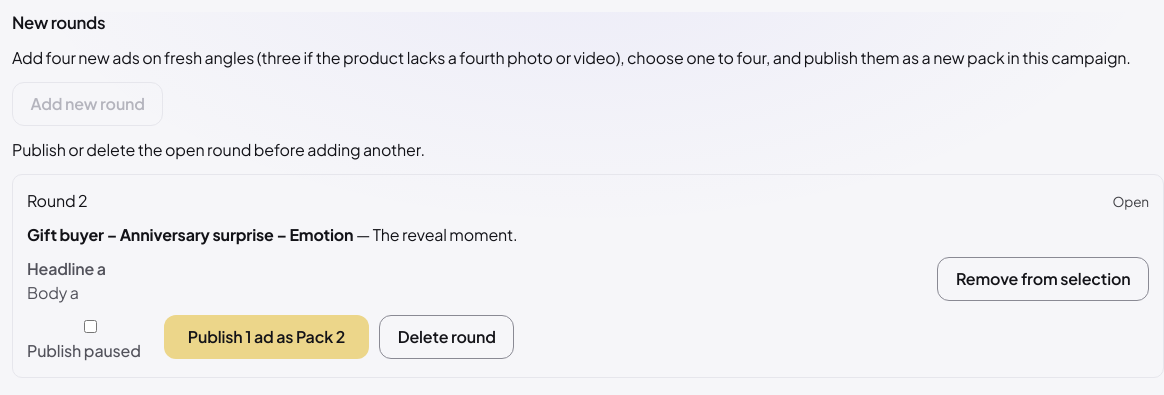
it: CreativeRoundsPanel › shows the progress of a video round published in the background
The width and height of the screenshot is (1164, 395).
Click the button "Publish 1 ad as Pack 2": x=266, y=337 top-left (164, 315), bottom-right (369, 359)
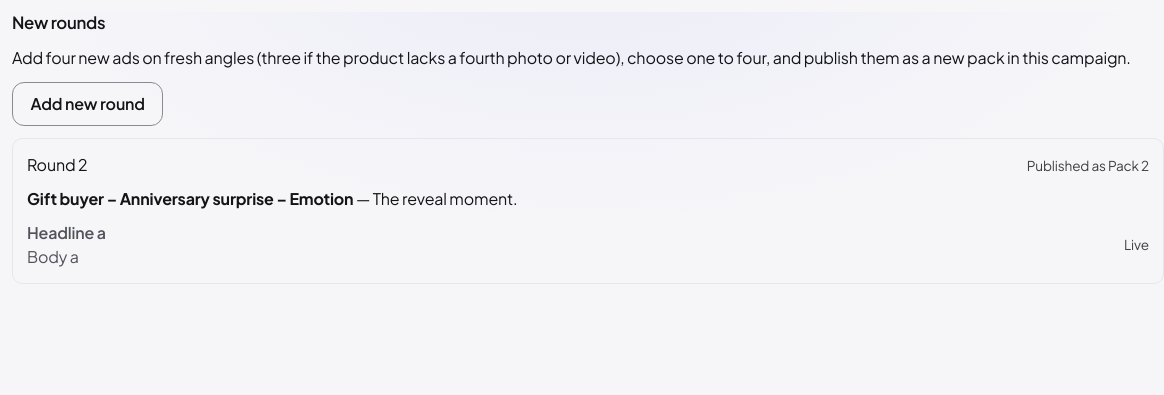
Expected: the text "Published as Pack 2" is shown, top-left (1027, 156), bottom-right (1149, 176)
